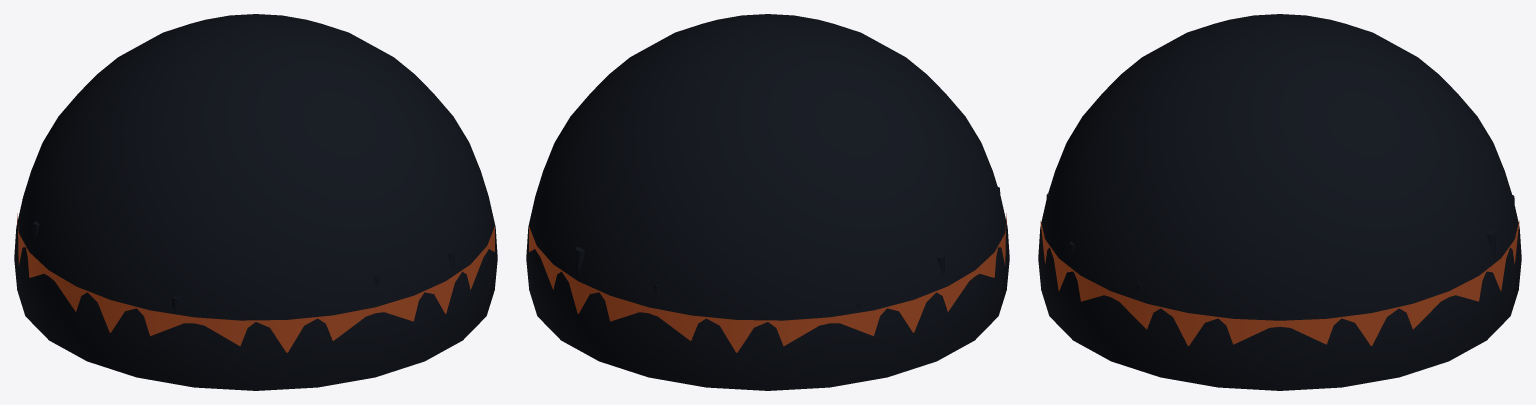
File: foundry_skybox.glb
3 views of the same model, side by side, from view 1: azimuth 30°, elevation 25°; view 2: azimuth 150°, elevation 25°; view 3: azimuth 270°, elevation 25° (orthographic).
Parts seen in each view (by area): view 1: sky_dome, sky_horizon; view 2: sky_dome, sky_horizon; view 3: sky_dome, sky_horizon.
Boxes of the visible parts, <box> form: sky_dome: <box>14,14,497,390</box>; sky_horizon: <box>17,213,494,352</box>; sky_dome: <box>526,14,1009,390</box>; sky_horizon: <box>529,213,1006,352</box>; sky_dome: <box>1038,14,1521,390</box>; sky_horizon: <box>1040,221,1519,345</box>.
Bounding box in the file's own units: 400 × 231 × 400.
